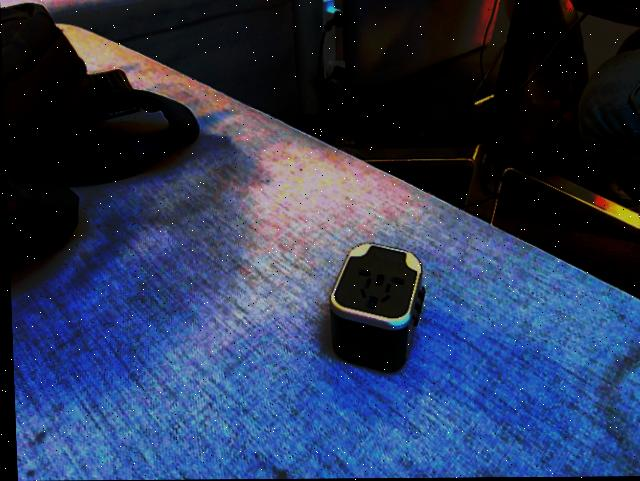adapter: (323, 242, 425, 374)
